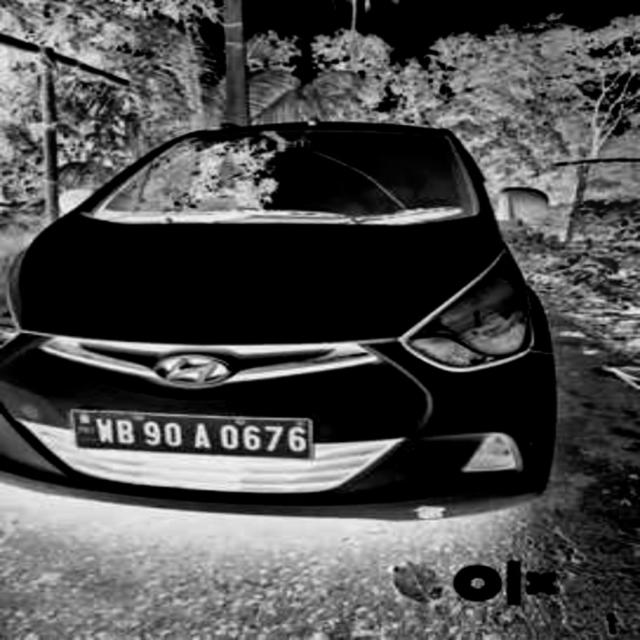0: (218, 424, 240, 451), (163, 421, 183, 448)
6: (242, 423, 264, 452), (287, 426, 308, 453)
7: (263, 424, 284, 452)
9: (143, 420, 162, 446)
A: (194, 422, 214, 450)
B: (114, 417, 136, 445)
IND: (76, 412, 95, 436)
Indian_registered: (71, 410, 312, 457)
W: (96, 416, 116, 444)
